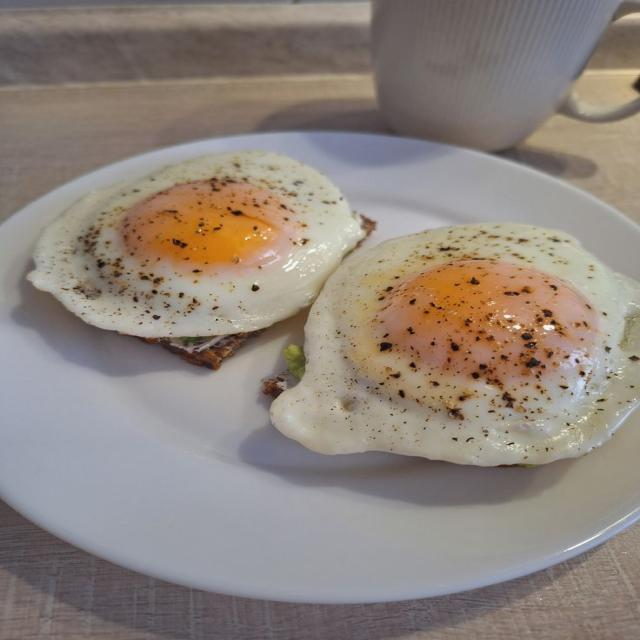fryed egg: (272, 224, 639, 465), (29, 151, 364, 337)
